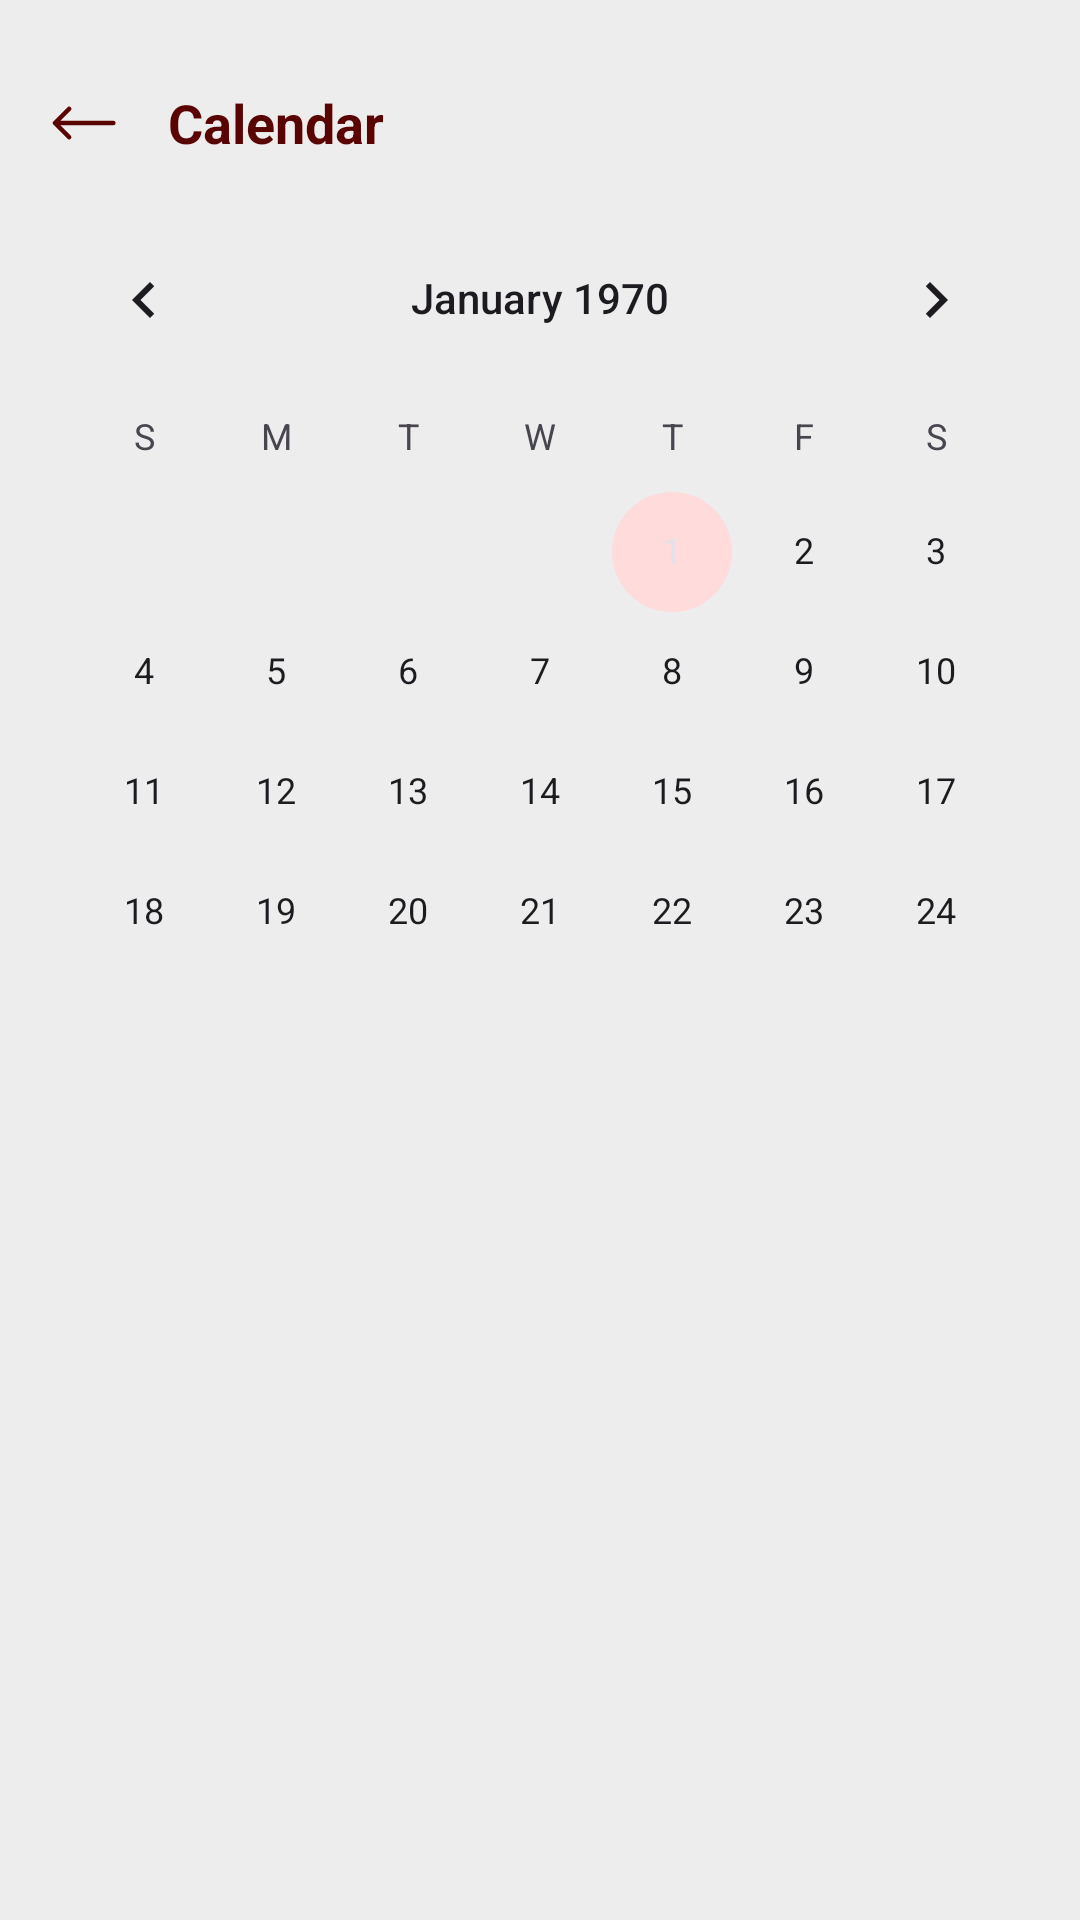

Screen size 1080w x 1920h. Icon name, then its center in pixels as (x=x, y=y):
back: (x=84, y=123)
